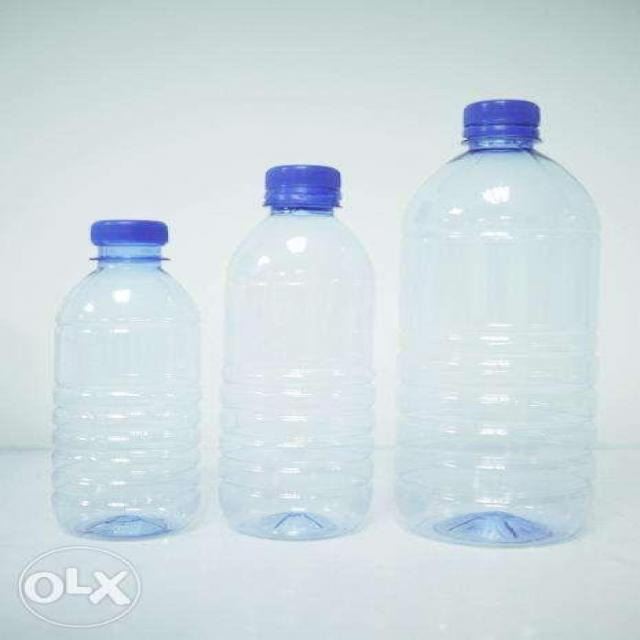plastic_bottle: (379, 73, 614, 571), (200, 133, 387, 579), (23, 196, 243, 560)
